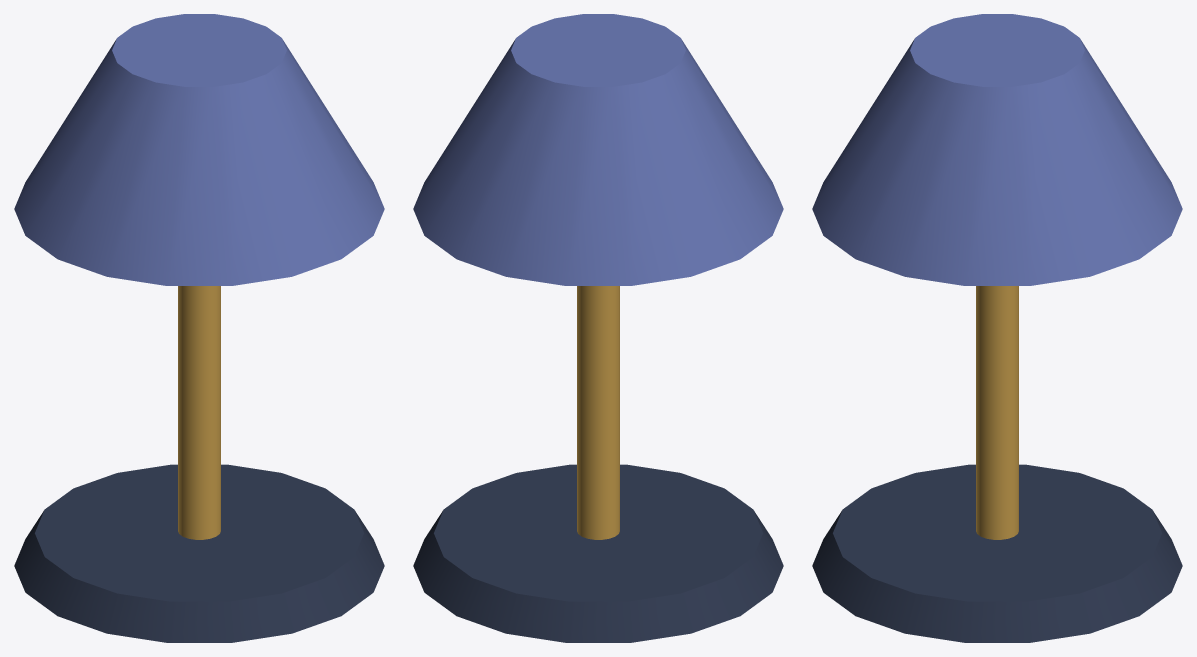
File: objeto-lamp.glb
The picture shows the model from 3 angles, left to right: view 1: azimuth 30°, elevation 25°; view 2: azimuth 150°, elevation 25°; view 3: azimuth 270°, elevation 25°; orthographic projection.
Visible parts, largest first — view 1: equipment:lamp; view 2: equipment:lamp; view 3: equipment:lamp.
Part boxes in pixels (x1,y1,x2,y2): equipment:lamp: (14, 14, 384, 642); equipment:lamp: (413, 14, 783, 642); equipment:lamp: (812, 14, 1182, 642).
Bounding box in the file's own units: 0.3545 × 0.5525 × 0.36.
